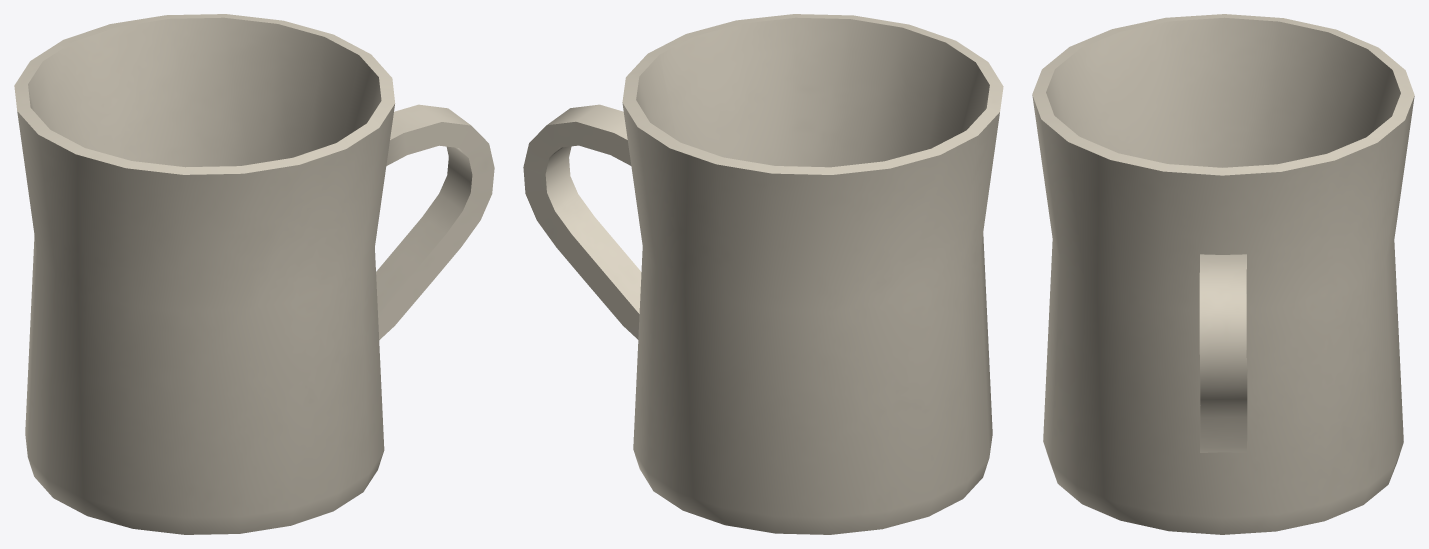
File: Cup.fbx
3 views of the same model, side by side, from view 1: azimuth 30°, elevation 25°; view 2: azimuth 150°, elevation 25°; view 3: azimuth 270°, elevation 25° (orthographic).
Visible parts, largest first — view 1: Cup; view 2: Cup; view 3: Cup.
Part boxes in pixels (<box>): Cup: <box>14,14,494,534</box>; Cup: <box>523,14,1003,534</box>; Cup: <box>1032,14,1414,534</box>.
Bounding box in the file's own units: 11.99 × 9.53 × 8.96.
